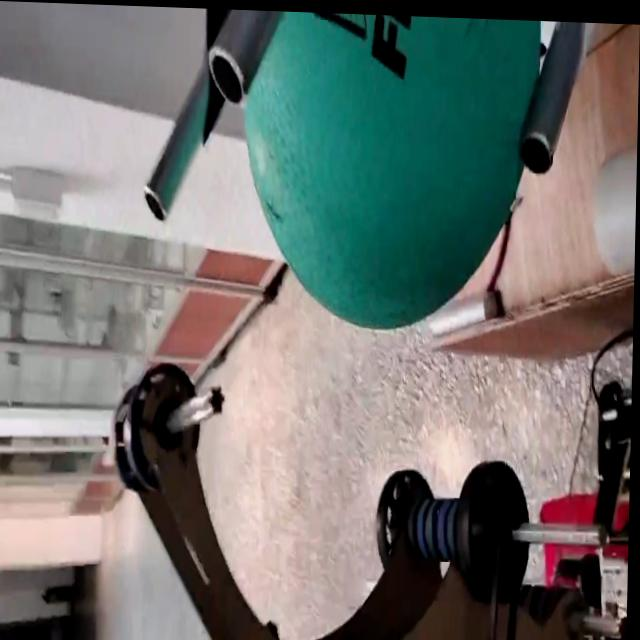ALGAE: (233, 9, 536, 334)
CORAL: (582, 123, 638, 295)
